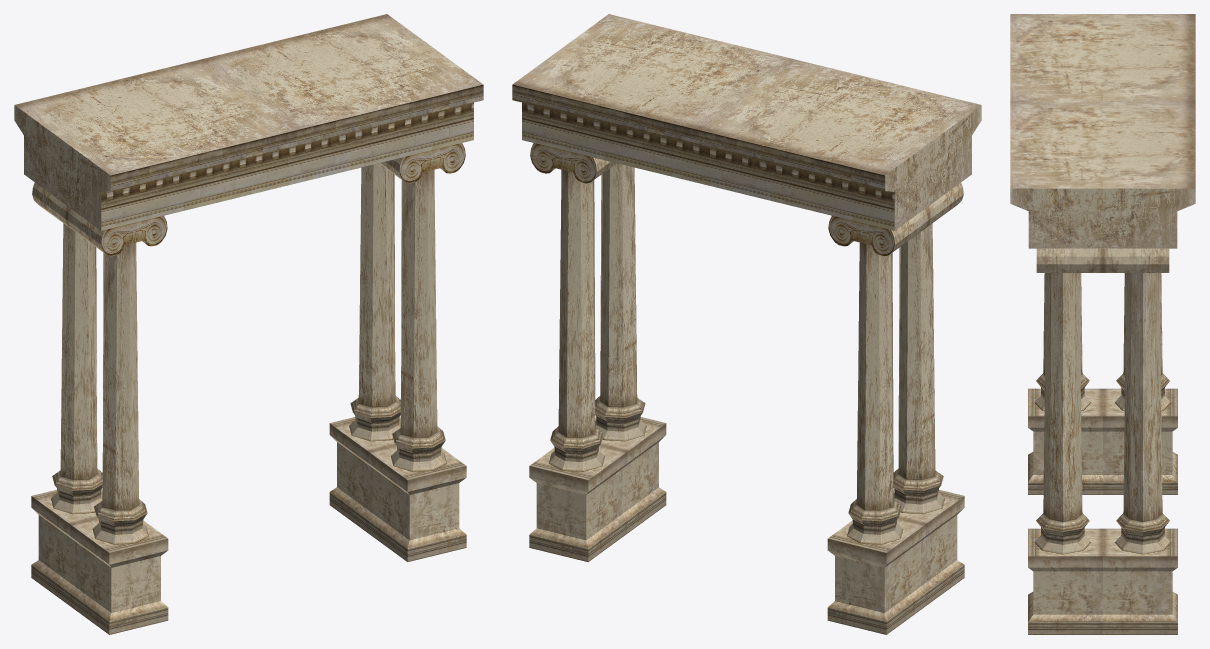
File: svpergola1.dae
3 renders of one model, left to right at view 1: azimuth 30°, elevation 25°; view 2: azimuth 150°, elevation 25°; view 3: azimuth 270°, elevation 25°, orthographic. The views are drawn at different scales.
Visible parts, largest first — view 1: cube4_sep12-0; view 2: cube4_sep12-0; view 3: cube4_sep12-0.
Boxes of the visible parts, left/top/right/bottom form: cube4_sep12-0: left=14, top=14, right=483, bottom=634; cube4_sep12-0: left=512, top=14, right=981, bottom=634; cube4_sep12-0: left=1010, top=14, right=1195, bottom=634.
Size of the model in its own units: 500 by 600 by 224.
